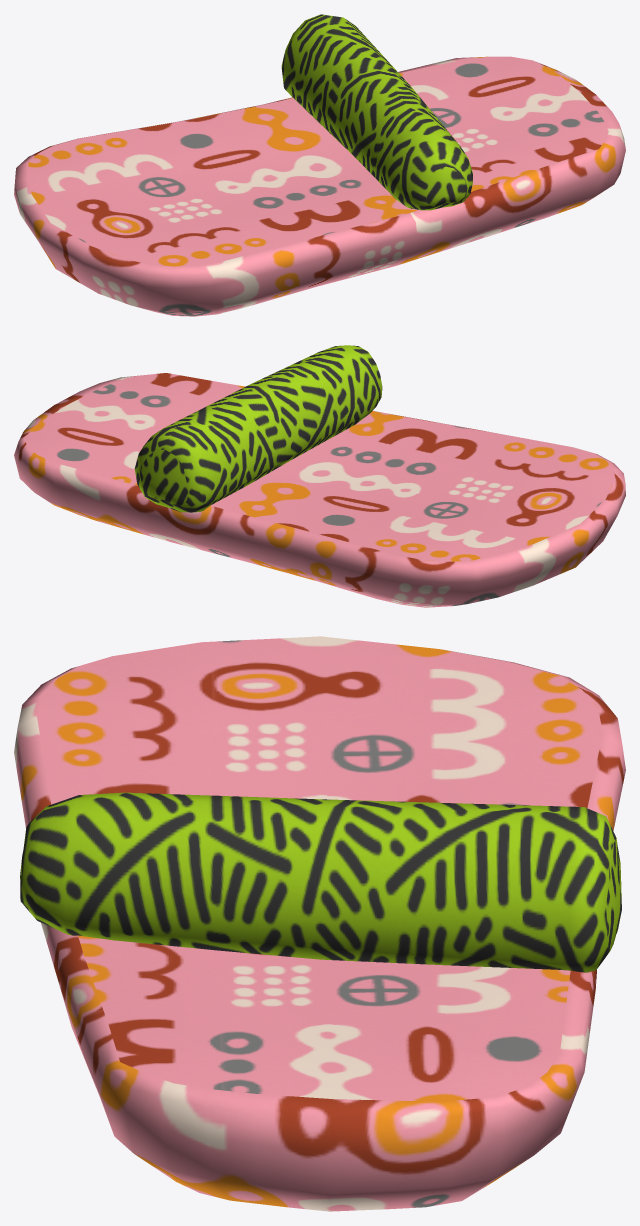
File: Grinding_Stone.fbx
3 renders of one model, top to bottom at view 1: azimuth 30°, elevation 25°; view 2: azimuth 150°, elevation 25°; view 3: azimuth 270°, elevation 25°, orthographic. The views are drawn at different scales.
Parts seen in each view (by area): view 1: Saddle, Quern; view 2: Saddle, Quern; view 3: Saddle, Quern.
Boxes of the visible parts, box(x1,y1,x2,y2) form: Saddle: box(14, 56, 625, 316); Quern: box(281, 14, 472, 210); Saddle: box(14, 373, 625, 607); Quern: box(134, 345, 382, 512); Saddle: box(14, 636, 625, 1211); Quern: box(20, 792, 621, 972).
Size of the model in its own units: 52.75 by 12.15 by 28.2.
